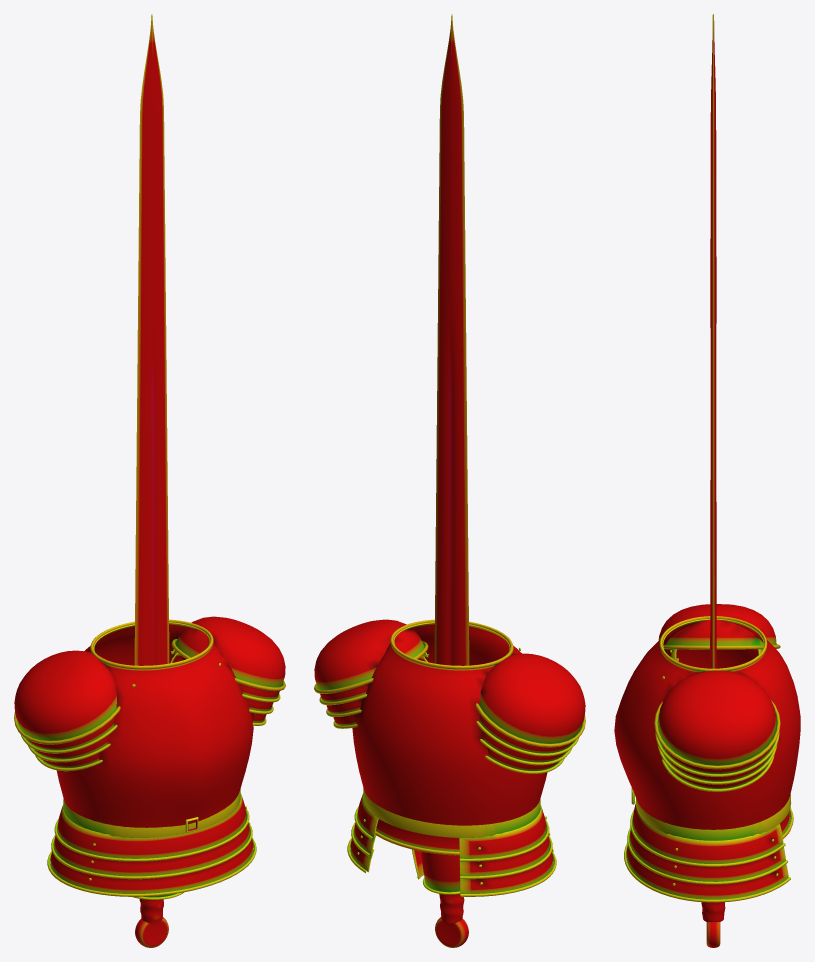
File: kitten_armor.glb
The picture shows the model from 3 angles, left to right: view 1: azimuth 30°, elevation 25°; view 2: azimuth 150°, elevation 25°; view 3: azimuth 270°, elevation 25°; orthographic projection.
Visible parts, largest first — view 1: chest__plate__cuirass, sword__steel__blade, pelvis__plate__fauld, chest__plate__pauldronR, chest__plate__pauldronL, pelvis__leather__belt, sword__brass__pommel; view 2: chest__plate__cuirass, sword__steel__blade, chest__plate__pauldronR, pelvis__plate__fauld, chest__plate__pauldronL, pelvis__leather__belt, shin__plate__greave, sword__brass__pommel, sword__leather__grip; view 3: chest__plate__cuirass, chest__plate__pauldronL, pelvis__plate__fauld, sword__steel__blade, chest__plate__pauldronR, pelvis__leather__belt, sword__leather__grip.
Part boxes in pixels (x1,y1,x2,y2): chest__plate__cuirass: [56, 619, 253, 838]; sword__steel__blade: [134, 14, 169, 665]; pelvis__plate__fauld: [47, 793, 256, 896]; chest__plate__pauldronR: [14, 650, 120, 771]; chest__plate__pauldronL: [170, 616, 285, 725]; pelvis__leather__belt: [63, 789, 240, 837]; sword__brass__pommel: [135, 917, 168, 947]; chest__plate__cuirass: [352, 619, 547, 855]; sword__steel__blade: [434, 14, 469, 665]; chest__plate__pauldronR: [475, 653, 585, 773]; pelvis__plate__fauld: [347, 793, 556, 896]; chest__plate__pauldronL: [314, 619, 429, 728]; pelvis__leather__belt: [363, 788, 540, 837]; shin__plate__greave: [421, 851, 460, 894]; sword__brass__pommel: [435, 917, 468, 947]; sword__leather__grip: [439, 894, 464, 923]; chest__plate__cuirass: [614, 616, 800, 838]; chest__plate__pauldronL: [654, 670, 780, 791]; pelvis__plate__fauld: [624, 804, 790, 902]; sword__steel__blade: [710, 14, 716, 668]; chest__plate__pauldronR: [658, 604, 780, 661]; pelvis__leather__belt: [635, 794, 791, 840]; sword__leather__grip: [701, 902, 725, 921].
Size of the model in its own units: 0.1479 by 0.518 by 0.0938.
